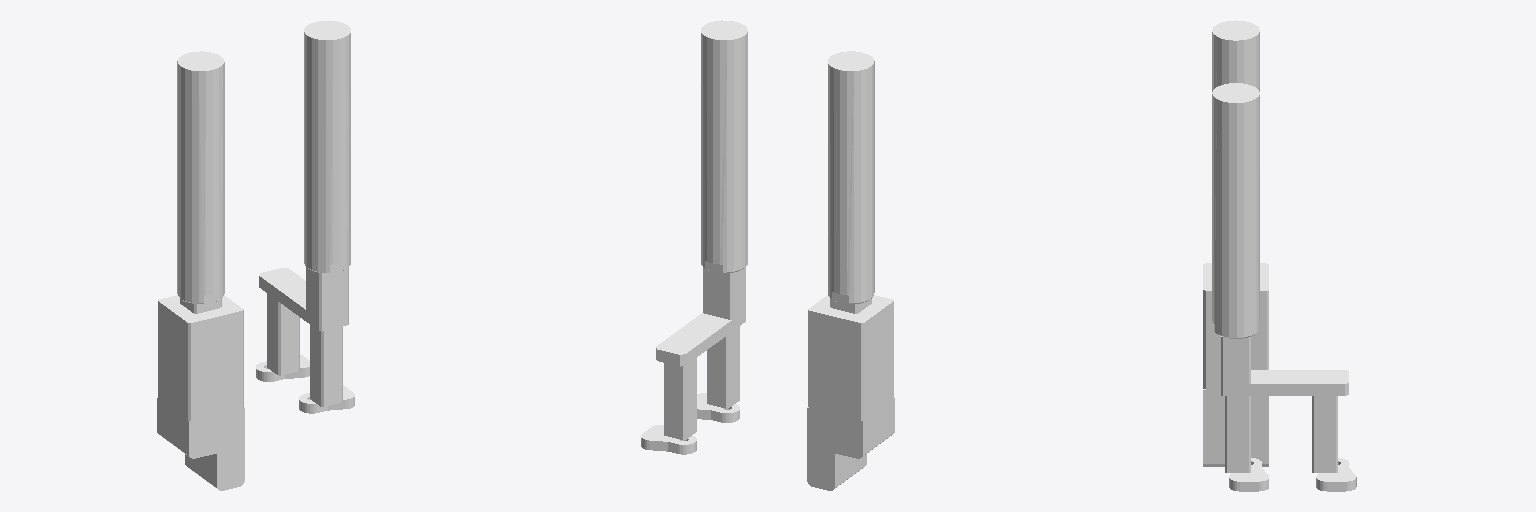
robot.urdf — 两个电缸:
<?xml version="1.0" encoding="utf-8"?>
<!-- This URDF was automatically created by SolidWorks to URDF Exporter! Originally created by Stephen Brawner (brawner@gmail.com) 
     Commit Version: 1.5.1-0-g916b5db  Build Version: 1.5.7152.31018
     For more information, please see http://wiki.ros.org/sw_urdf_exporter -->
<robot
  name="两个电缸">
  <link
    name="endBody4">
    <inertial>
      <origin
        xyz="-5.5021E-05 -0.047926 -0.15922"
        rpy="0 0 0" />
      <mass
        value="1.8714" />
      <inertia
        ixx="0.0031433"
        ixy="-1.6051E-06"
        ixz="3.5399E-07"
        iyy="0.0028455"
        iyz="-2.1303E-06"
        izz="0.0012282" />
    </inertial>
    <visual>
      <origin
        xyz="0 0 0"
        rpy="0 0 0" />
      <geometry>
        <mesh
          filename="package://两个电缸/meshes/endBody4.STL" />
      </geometry>
      <material
        name="">
        <color
          rgba="1 1 1 1" />
      </material>
    </visual>
    <collision>
      <origin
        xyz="0 0 0"
        rpy="0 0 0" />
      <geometry>
        <mesh
          filename="package://两个电缸/meshes/endBody4.STL" />
      </geometry>
    </collision>
  </link>
  <link
    name="endlink1">
    <inertial>
      <origin
        xyz="0.00019307 0.00639 0.024544"
        rpy="0 0 0" />
      <mass
        value="0.070322" />
      <inertia
        ixx="7.0736E-05"
        ixy="-1.1531E-10"
        ixz="-1.1462E-12"
        iyy="6.3227E-05"
        iyz="2.1893E-06"
        izz="1.1317E-05" />
    </inertial>
    <visual>
      <origin
        xyz="0 0 0"
        rpy="0 0 0" />
      <geometry>
        <mesh
          filename="package://两个电缸/meshes/endlink1.STL" />
      </geometry>
      <material
        name="">
        <color
          rgba="1 1 1 1" />
      </material>
    </visual>
    <collision>
      <origin
        xyz="0 0 0"
        rpy="0 0 0" />
      <geometry>
        <mesh
          filename="package://两个电缸/meshes/endlink1.STL" />
      </geometry>
    </collision>
  </link>
  <joint
    name="endbody4_endlink1"
    type="prismatic">
    <origin
      xyz="0.034 -0.061735 -0.2935"
      rpy="0 0 0" />
    <parent
      link="endBody4" />
    <child
      link="endlink1" />
    <axis
      xyz="0 0 -1" />
    <limit
      lower="0"
      upper="0.12"
      effort="100"
      velocity="1" />
    <dynamics
      damping="0.1"
      friction="1" />
    <safety_controller
      soft_upper="3.14"
      soft_lower="-3.14"
      k_position="1"
      k_velocity="1" />
  </joint>
  <link
    name="endlink2">
    <inertial>
      <origin
        xyz="0.0005181 -2.0477E-10 -0.0027812"
        rpy="0 0 0" />
      <mass
        value="0.11476" />
      <inertia
        ixx="7.3931E-05"
        ixy="-1.1531E-10"
        ixz="8.0168E-07"
        iyy="7.3625E-05"
        iyz="-1.171E-12"
        izz="1.3185E-05" />
    </inertial>
    <visual>
      <origin
        xyz="0 0 0"
        rpy="0 0 0" />
      <geometry>
        <mesh
          filename="package://两个电缸/meshes/endlink2.STL" />
      </geometry>
      <material
        name="">
        <color
          rgba="1 1 1 1" />
      </material>
    </visual>
    <collision>
      <origin
        xyz="0 0 0"
        rpy="0 0 0" />
      <geometry>
        <mesh
          filename="package://两个电缸/meshes/endlink2.STL" />
      </geometry>
    </collision>
  </link>
  <joint
    name="endbody4_endlink2"
    type="prismatic">
    <origin
      xyz="-0.034 -0.061735 -0.2935"
      rpy="0 0 0" />
    <parent
      link="endBody4" />
    <child
      link="endlink2" />
    <axis
      xyz="0 0 -1" />
    <limit
      lower="0"
      upper="0.12"
      effort="100"
      velocity="1" />
    <dynamics
      damping="0.1"
      friction="1" />
    <safety_controller
      soft_upper="3.14"
      soft_lower="-3.14"
      k_position="1"
      k_velocity="1" />
  </joint>
</robot>

--- Facts derived from the render (not from the file) ---
Views: 3 orthographic renders of the robot side by side, from view 1: azimuth 30°, elevation 25°; view 2: azimuth 150°, elevation 25°; view 3: azimuth 270°, elevation 25°.
Robot: 两个电缸 — 3 links, 2 joints (2 prismatic); root link endBody4; default pose: all joints at 0.
Visible links, largest first — view 1: endlink2, endlink1; view 2: endlink2, endlink1; view 3: endlink1, endlink2.
Link boxes in pixels (x1,y1,x2,y2): endlink2: (157,51,244,490); endlink1: (256,20,354,413); endlink2: (807,51,894,490); endlink1: (641,20,747,454); endlink1: (1212,83,1356,491); endlink2: (1203,20,1268,466).
Bounding box of the posed robot: 0.098 × 0.0703 × 0.215 m (x, y, z).
2 mesh visuals loaded from 3 distinct referenced files (2 binary STL); not drawn: 1 (reference not matched to a file when rendering).
